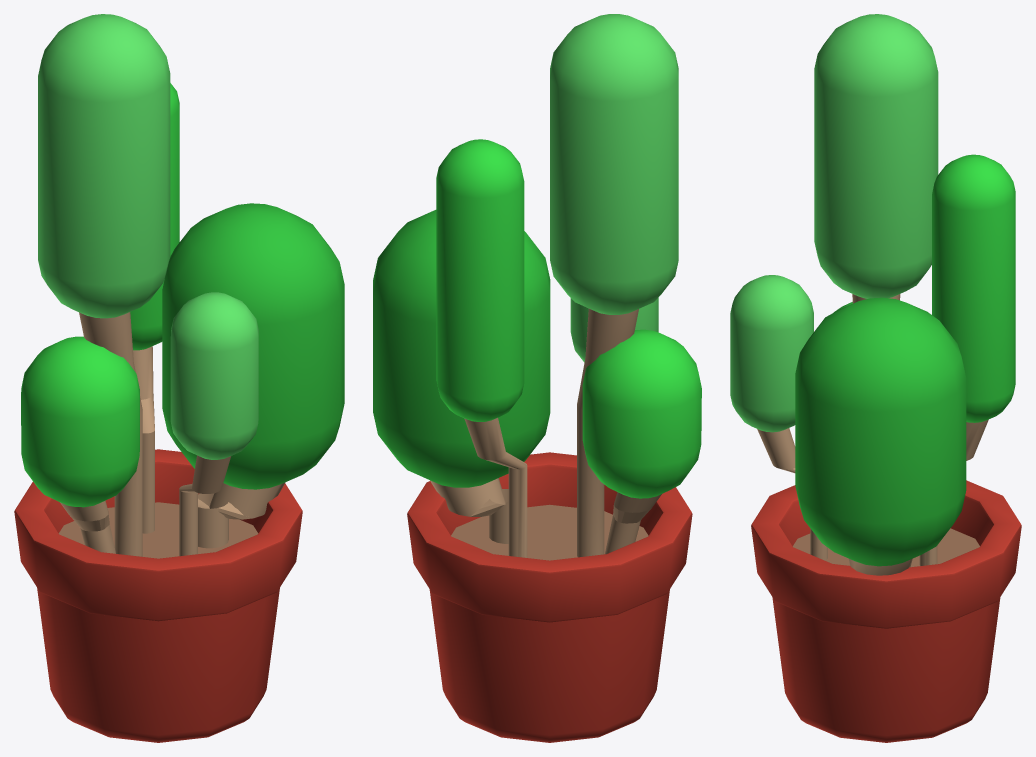
File: Plant-4.fbx
3 renders of one model, left to right at view 1: azimuth 30°, elevation 25°; view 2: azimuth 150°, elevation 25°; view 3: azimuth 270°, elevation 25°, orthographic. The views are drawn at different scales.
Visible parts, largest first — view 1: Plant-4; view 2: Plant-4; view 3: Plant-4.
Boxes of the visible parts, x1,y1,x2,y2 form: Plant-4: (14,14,344,742); Plant-4: (373,14,701,742); Plant-4: (730,14,1021,742).
Bounding box in the file's own units: 0.8622 × 1.87 × 0.7507.
